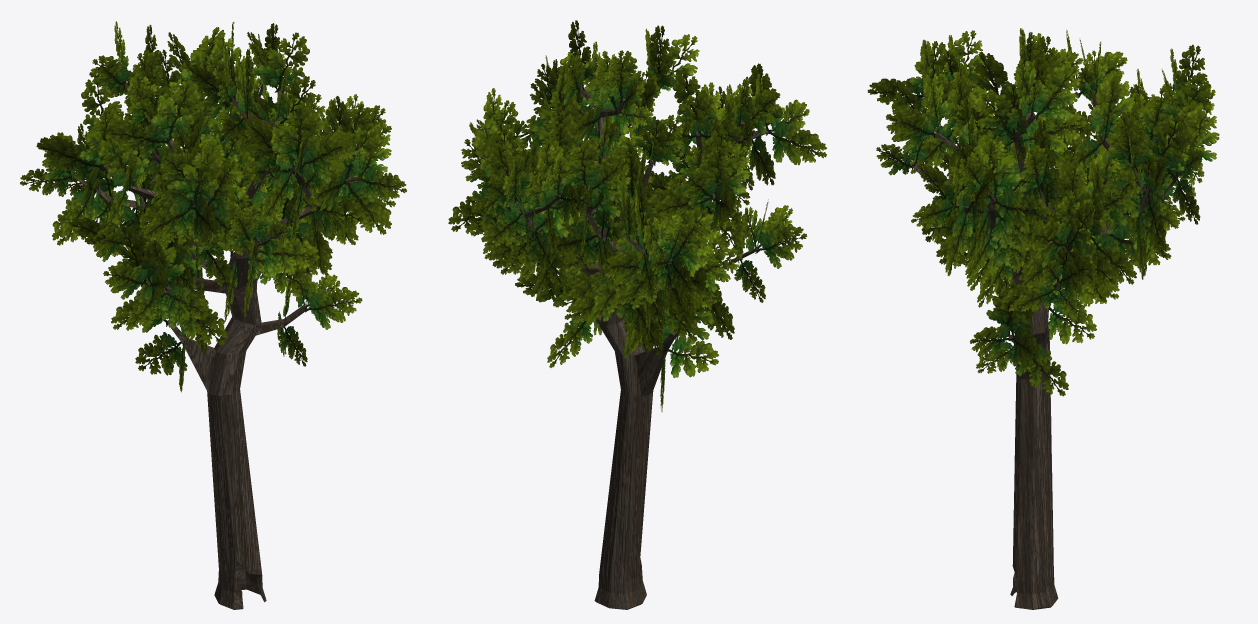
Rendered from oaktree_no_roots.fbx.
3 renders of one model, left to right at view 1: azimuth 30°, elevation 25°; view 2: azimuth 150°, elevation 25°; view 3: azimuth 270°, elevation 25°, orthographic.
Parts seen in each view (by area): view 1: OakTree; view 2: OakTree; view 3: OakTree.
Part boxes in pixels (<box>): OakTree: <box>20,21,406,609</box>; OakTree: <box>448,20,826,609</box>; OakTree: <box>867,28,1219,609</box>.
Size of the model in its own units: 22.16 by 37.8 by 23.04.
Materials: 2 (2 with a texture image).
